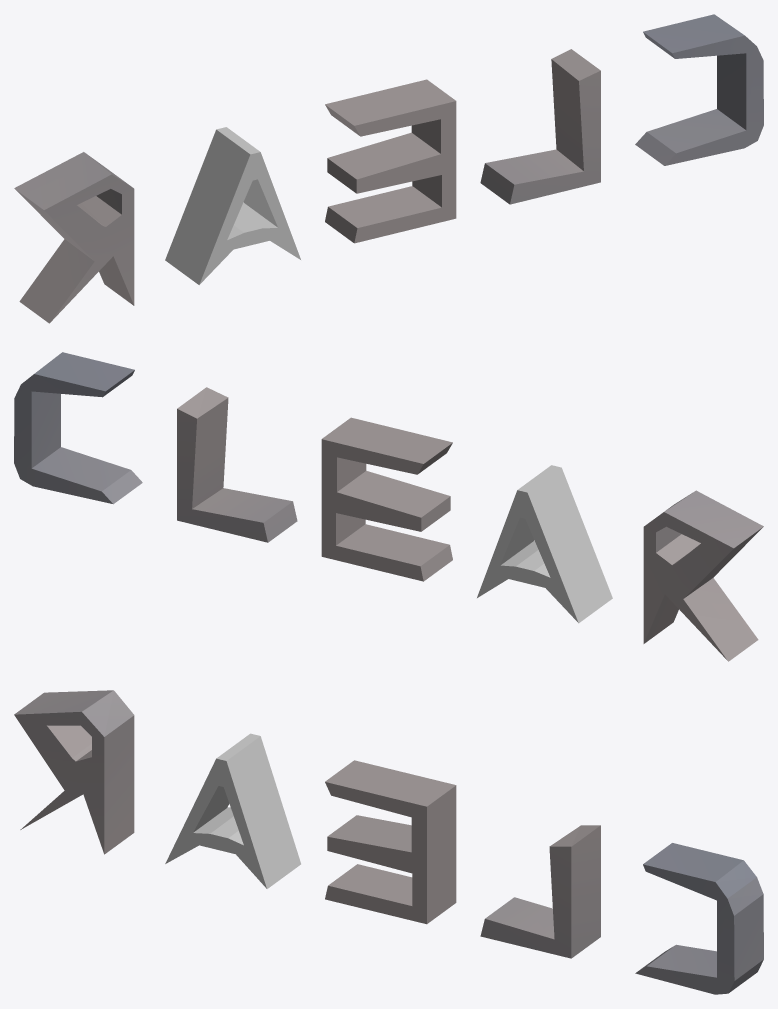
The model's file is clear.obj.
3 renders of one model, top to bottom at view 1: azimuth 30°, elevation 25°; view 2: azimuth 150°, elevation 25°; view 3: azimuth 330°, elevation 25°, orthographic.
Parts seen in each view (by area): view 1: CL_E_AR, CLEA_R, CLE_A_R, C_LEAR, C_L_EAR; view 2: CL_E_AR, CLEA_R, CLE_A_R, C_LEAR, C_L_EAR; view 3: CL_E_AR, CLEA_R, C_LEAR, CLE_A_R, C_L_EAR.
Boxes of the visible parts, x1,y1,x2,y2 form: CL_E_AR: (325,79,456,243); CLEA_R: (14,152,134,323); CLE_A_R: (165,127,300,284); C_LEAR: (635,14,763,165); C_L_EAR: (480,49,600,204); CL_E_AR: (321,417,452,581); CLEA_R: (643,490,763,661); CLE_A_R: (477,465,612,623); C_LEAR: (14,352,142,504); C_L_EAR: (177,387,297,542); CL_E_AR: (325,760,456,924); CLEA_R: (14,690,134,854); C_LEAR: (635,843,763,994); CLE_A_R: (165,733,300,888); C_L_EAR: (480,825,600,958).
Bounding box in the file's own units: 7.05 × 1.29 × 0.58.
Materials: 1 (1 with a texture image).
